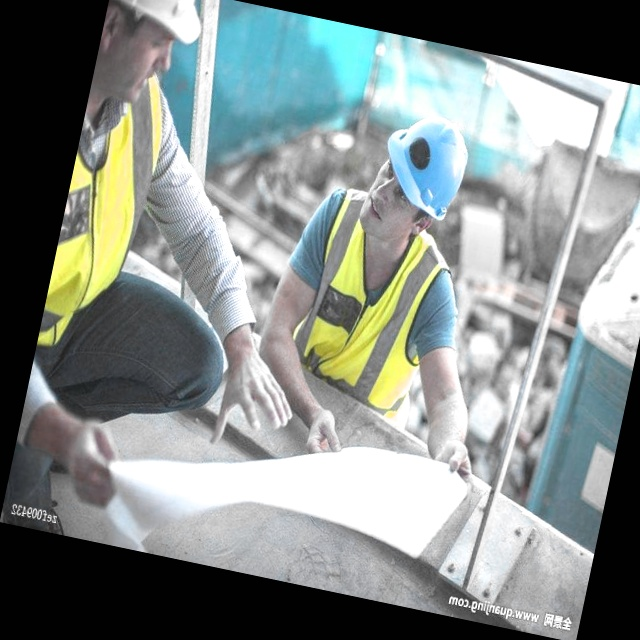Con_Chaleco: (276, 193, 456, 410)
